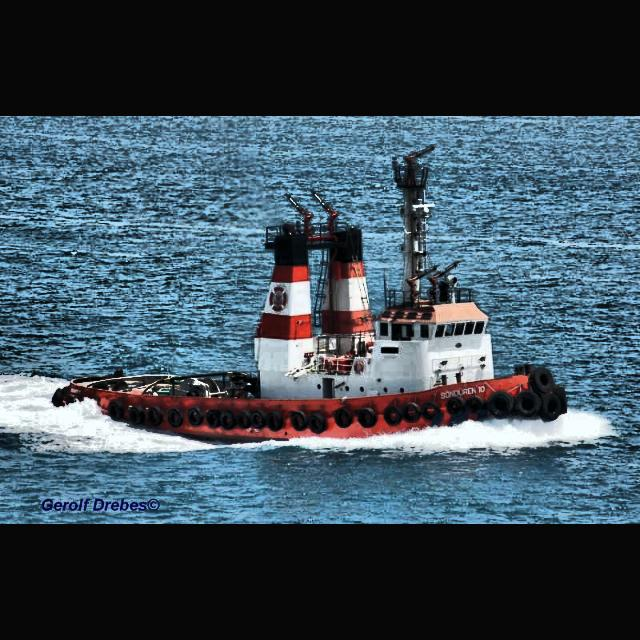tug: (46, 206, 572, 444)
